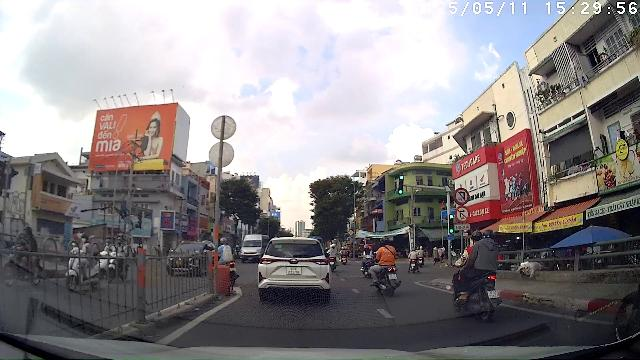103b-cam-oto-re-phai: (454, 206, 470, 222)
103c-cam-oto-re-trai: (454, 187, 470, 204)
